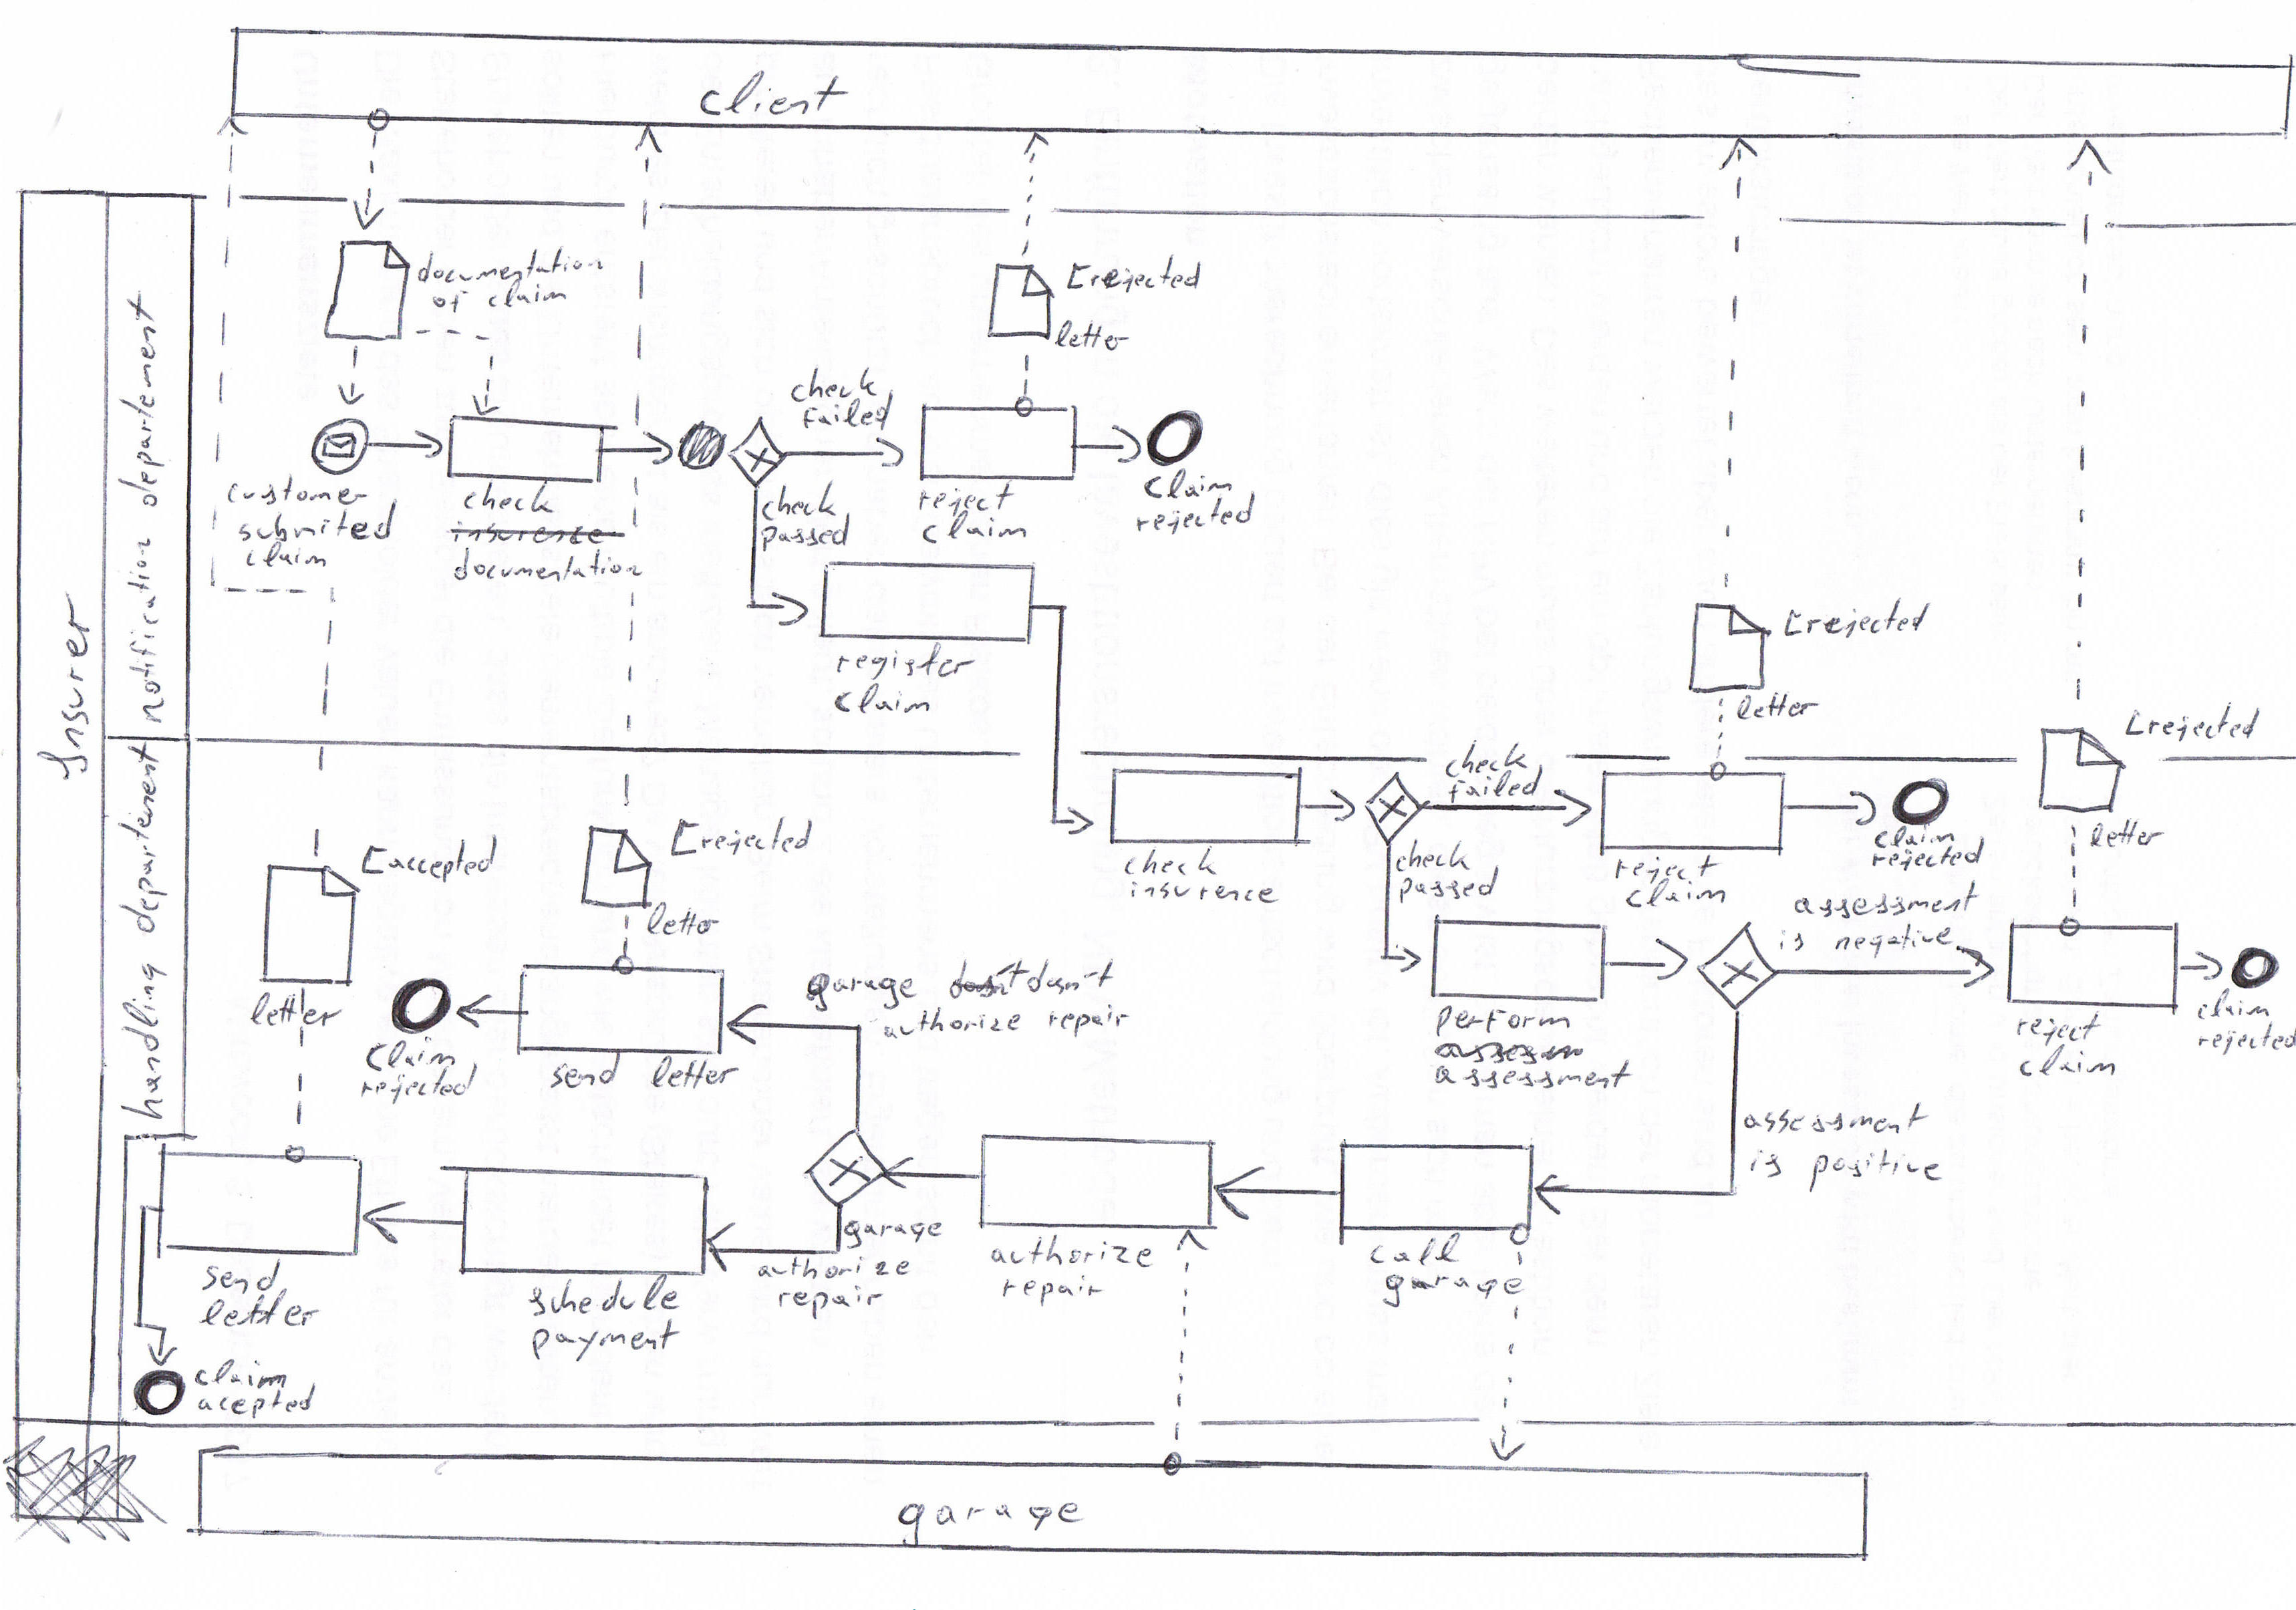Claim: (358, 1031, 461, 1078)
Insurer: (28, 581, 99, 790)
Perform: (1431, 1001, 1577, 1043)
[accepted: (354, 829, 504, 890)
[rejected: (1780, 590, 1937, 645), (2120, 696, 2266, 750), (672, 813, 818, 862), (1063, 249, 1206, 298)
acepted: (192, 1378, 319, 1422)
assessment: (1785, 874, 1985, 924), (1734, 1095, 1937, 1141), (1427, 1055, 1637, 1094)
authorize: (984, 1230, 1157, 1273), (874, 1003, 1028, 1045), (750, 1251, 916, 1286)
call: (1363, 1228, 1466, 1272)
check: (1439, 734, 1534, 787), (455, 474, 562, 520), (782, 361, 881, 408), (757, 474, 843, 527), (1118, 843, 1223, 881), (1391, 834, 1476, 877)
claim: (916, 504, 1033, 551), (1619, 870, 1731, 914), (2012, 1040, 2122, 1083), (827, 677, 937, 720), (1136, 464, 1239, 504), (188, 1354, 295, 1392), (482, 274, 572, 314), (239, 536, 331, 574), (2190, 984, 2273, 1026), (1867, 820, 1961, 855)
client: (689, 65, 855, 122)
customer: (220, 467, 373, 511)
departement: (108, 734, 174, 940), (112, 284, 169, 515)
documentation: (410, 242, 609, 290), (448, 542, 647, 586)
doesn't: (1019, 952, 1122, 999)
failed: (794, 384, 899, 436), (1439, 759, 1548, 808)
garage: (890, 1495, 1090, 1552), (1377, 1270, 1528, 1312), (799, 966, 923, 1017), (839, 1214, 947, 1254)
handling: (112, 956, 173, 1127)
insurence: (1122, 876, 1284, 909)
is: (1743, 1146, 1787, 1184), (1771, 926, 1807, 956)
letter: (192, 1284, 326, 1334), (243, 986, 347, 1033), (644, 1052, 745, 1095), (640, 897, 726, 942), (1049, 312, 1134, 358), (1731, 686, 1825, 724), (2085, 813, 2170, 855)
negative: (1828, 919, 1959, 965)
notification: (119, 529, 169, 731)
of: (426, 286, 473, 317)
passed: (1394, 860, 1504, 909), (755, 509, 855, 558)
payment: (523, 1313, 686, 1368)
positive: (1802, 1141, 1949, 1198)
register: (829, 635, 979, 684)
reject: (911, 474, 1021, 522), (1607, 849, 1727, 890), (2010, 1006, 2108, 1052)
rejected: (1129, 485, 1261, 542), (354, 1055, 482, 1109), (1865, 830, 1989, 876), (2193, 1017, 2294, 1059)
repair: (771, 1282, 888, 1324), (996, 1270, 1110, 1312), (1042, 999, 1136, 1043)
schedule: (520, 1270, 687, 1322)
send: (195, 1254, 286, 1300), (544, 1050, 626, 1094)
submited: (232, 494, 403, 548)
